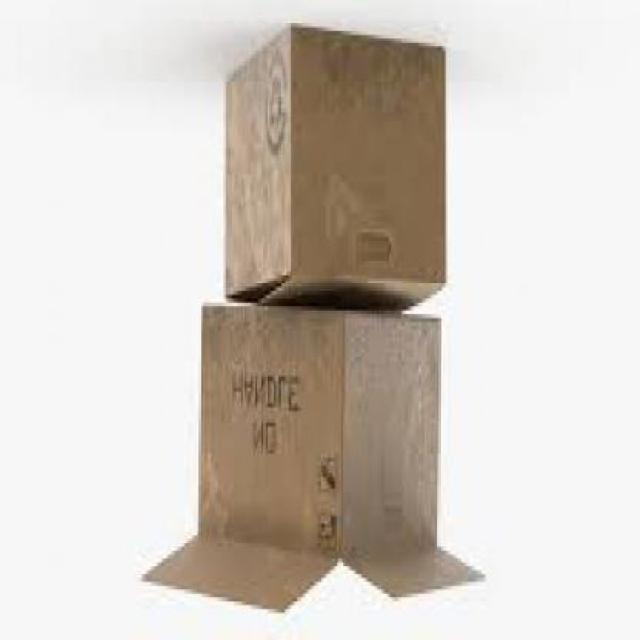CARDBOARD: (139, 311, 483, 617), (224, 23, 445, 306)
